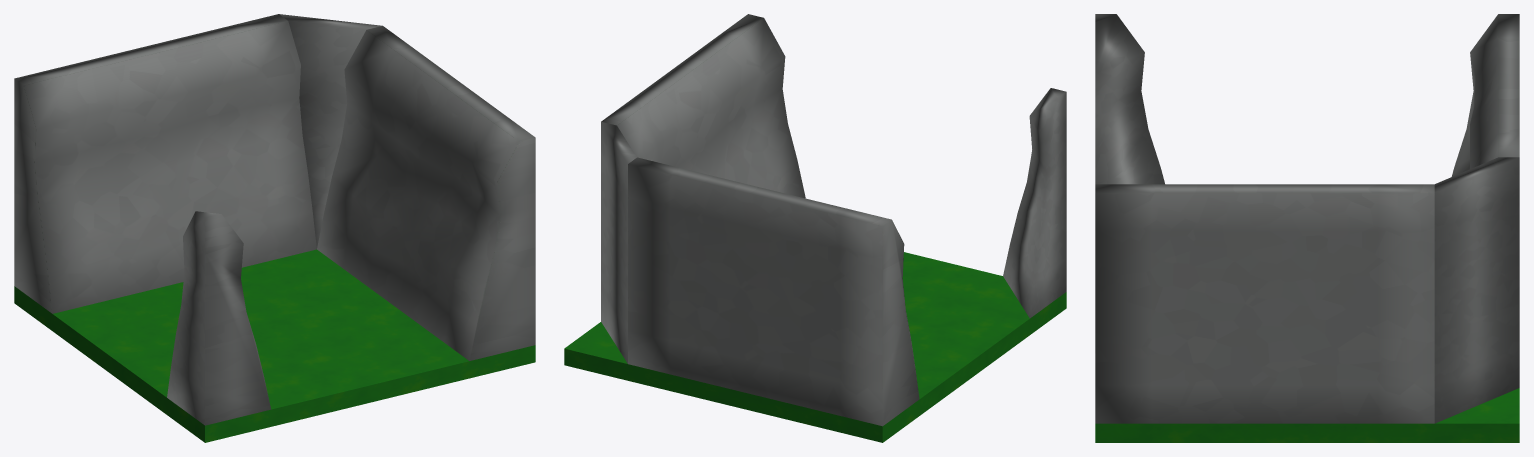
The model's file is cornerRoom.glb.
3 renders of one model, left to right at view 1: azimuth 30°, elevation 25°; view 2: azimuth 150°, elevation 25°; view 3: azimuth 270°, elevation 25°, orthographic. The views are drawn at different scales.
Parts seen in each view (by area): view 1: Wall.004, Wall.003, Floor.004, CornerInt.003, CornerExt.003; view 2: Wall.004, Floor.004, Wall.003, CornerInt.003, CornerExt.003; view 3: Wall.003, CornerExt.003, Floor.004, CornerInt.003, Wall.004.
Part boxes in pixels (x1,y1,x2,y2): Wall.004: (14, 14, 316, 313); Wall.003: (317, 26, 535, 360); Floor.004: (14, 249, 535, 442); CornerInt.003: (167, 211, 271, 425); CornerExt.003: (279, 14, 382, 248); Wall.004: (628, 157, 919, 426); Floor.004: (564, 252, 1066, 442); Wall.003: (601, 14, 805, 198); CornerInt.003: (1003, 88, 1066, 318); CornerExt.003: (601, 121, 636, 363); Wall.003: (1095, 184, 1434, 423); CornerExt.003: (1434, 157, 1519, 423); Floor.004: (1095, 388, 1519, 442); CornerInt.003: (1095, 14, 1164, 184); Wall.004: (1451, 14, 1519, 176).
Bounding box in the file's own units: 10 × 6.5 × 10.
Materials: 2 (2 with a texture image).
